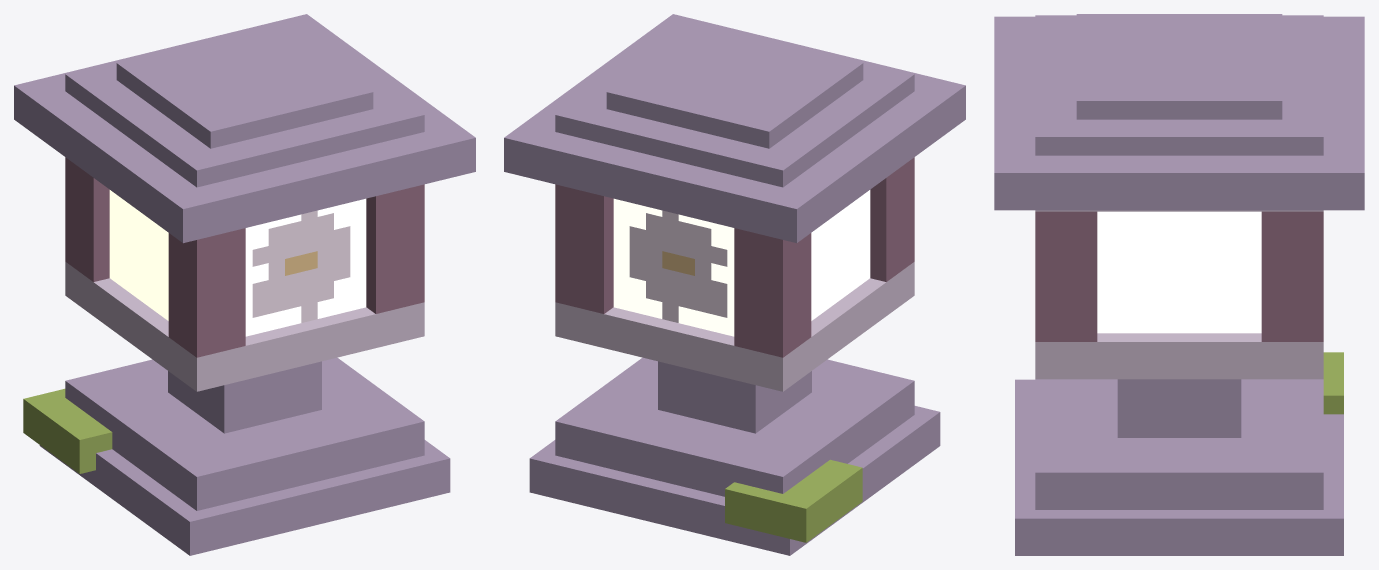
The model's file is spirit_lantern_post.glb.
3 views of the same model, side by side, from view 1: azimuth 30°, elevation 25°; view 2: azimuth 150°, elevation 25°; view 3: azimuth 270°, elevation 25° (orthographic). The views are drawn at different scales.
Size of the model in its own units: 0.75 by 0.9583 by 0.75.
